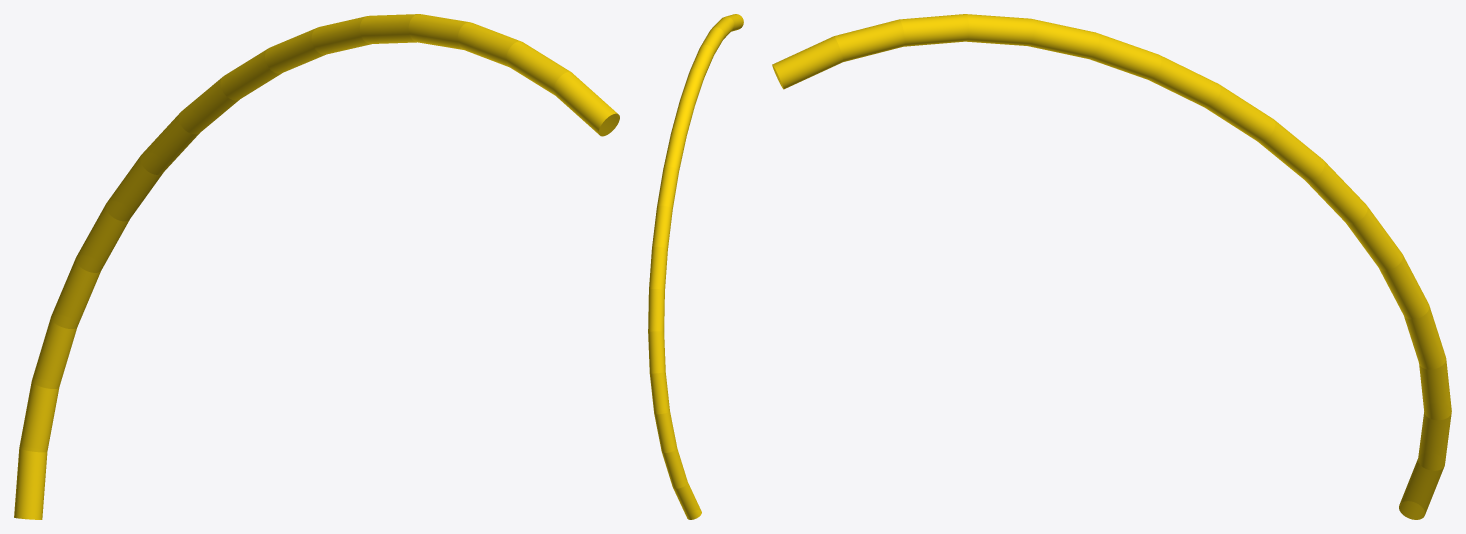
File: Event_421115418_track_149.fbx
3 views of the same model, side by side, from view 1: azimuth 30°, elevation 25°; view 2: azimuth 150°, elevation 25°; view 3: azimuth 270°, elevation 25° (orthographic). The views are drawn at different scales.
Parts seen in each view (by area): view 1: Model; view 2: Model; view 3: Model.
Part boxes in pixels (left/top/right/bottom): Model: left=14, top=14, right=619, bottom=519; Model: left=648, top=14, right=743, bottom=519; Model: left=772, top=14, right=1451, bottom=519.
Bounding box in the file's own units: 0.4497 × 0.9603 × 0.9849.
